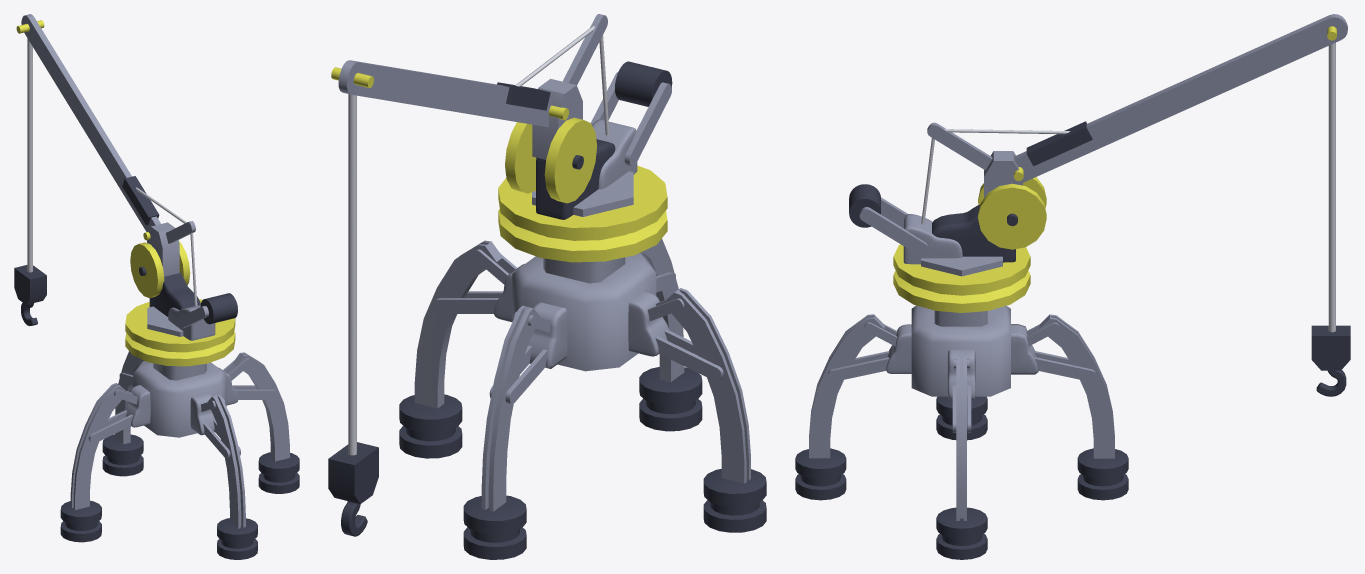
File: crane-for-poly.obj
The picture shows the model from 3 angles, left to right: view 1: azimuth 30°, elevation 25°; view 2: azimuth 150°, elevation 25°; view 3: azimuth 270°, elevation 25°; orthographic projection. The views are drawn at different scales.
Parts seen in each view (by area): view 1: Form48, Shape7, Shape8, Form58, Form53, Shape10, Group5 Form63, Form50, Form62, Shape9, Group5 Form66; view 2: Form48, Shape7, Shape8, Form58, Shape10, Form50, Form53, Group5 Form63, Form62, Shape9, Group5 Form66, Form69 (+1 smaller); view 3: Group5 Form63, Form48, Shape7, Form58, Shape10, Shape8, Form53, Form50, Form62, Group5 Form66, Shape9.
Part boxes in pixels (box(x1,y1,x2,y2)): Form48: box(70, 351, 289, 528); Shape7: box(60, 434, 299, 559); Shape8: box(125, 299, 235, 366); Form58: box(133, 361, 226, 437); Form53: box(123, 272, 238, 435); Shape10: box(27, 38, 197, 306); Group5 Form63: box(21, 14, 160, 231); Form50: box(88, 221, 277, 458); Form62: box(14, 222, 179, 304); Shape9: box(200, 293, 237, 324); Group5 Form66: box(122, 176, 159, 225); Form48: box(414, 238, 750, 511); Shape7: box(399, 367, 766, 559); Shape8: box(498, 165, 667, 262); Form58: box(512, 253, 656, 371); Shape10: box(348, 26, 609, 455); Form50: box(433, 14, 723, 404); Form53: box(494, 119, 669, 368); Group5 Form63: box(338, 60, 554, 127); Form62: box(328, 78, 582, 503); Shape9: box(615, 61, 672, 106); Group5 Form66: box(497, 82, 550, 110); Form69: box(341, 501, 367, 536); Group5 Form63: box(1014, 14, 1347, 182); Form48: box(809, 314, 1114, 520); Shape7: box(795, 396, 1128, 559); Form58: box(911, 305, 1010, 396); Shape10: box(921, 42, 1335, 332); Shape8: box(893, 244, 1030, 312); Form53: box(886, 204, 1038, 399); Form50: box(828, 122, 1095, 432); Form62: box(984, 151, 1350, 370); Group5 Form66: box(1026, 121, 1092, 166); Shape9: box(849, 184, 880, 227).
Bounding box in the file's own units: 46.82 × 73.68 × 77.98.
